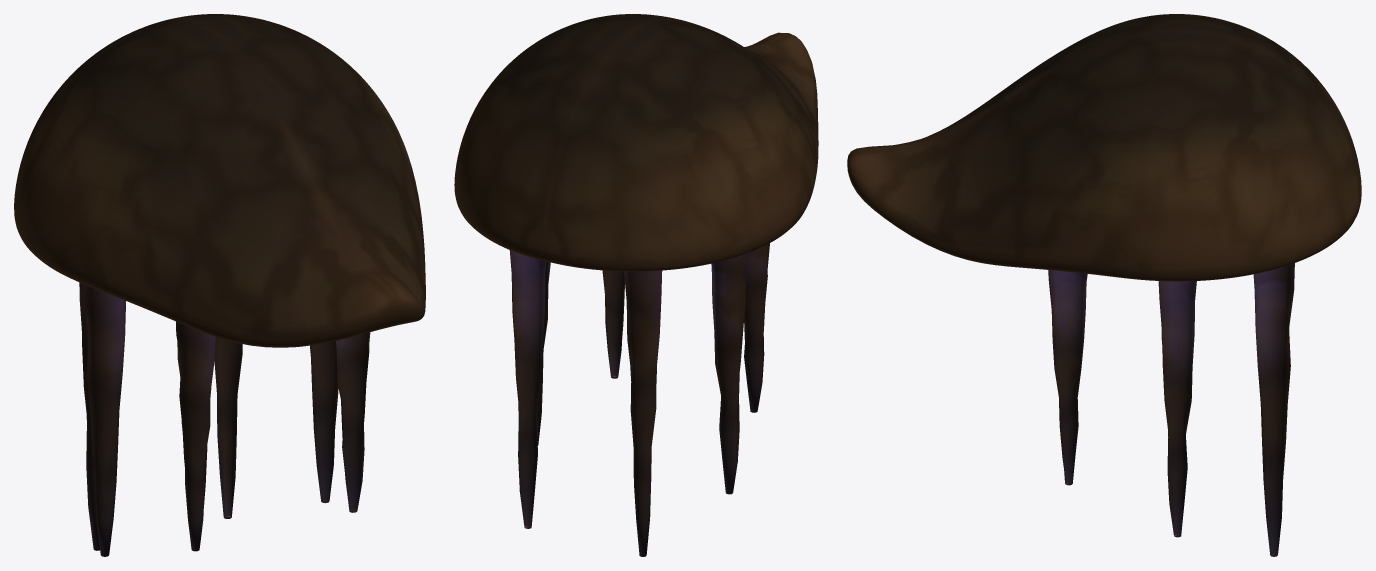
The model's file is netch.dae.
3 renders of one model, left to right at view 1: azimuth 30°, elevation 25°; view 2: azimuth 150°, elevation 25°; view 3: azimuth 270°, elevation 25°, orthographic. The views are drawn at different scales.
Parts seen in each view (by area): view 1: Sphere; view 2: Sphere; view 3: Sphere.
Part boxes in pixels (x1=…): Sphere: x1=14, y1=14, x2=425, y2=556; Sphere: x1=454, y1=14, x2=818, y2=556; Sphere: x1=847, y1=14, x2=1361, y2=556.
Size of the model in its own units: 1.97 by 2.74 by 2.91.
1 material, 1 textured.
